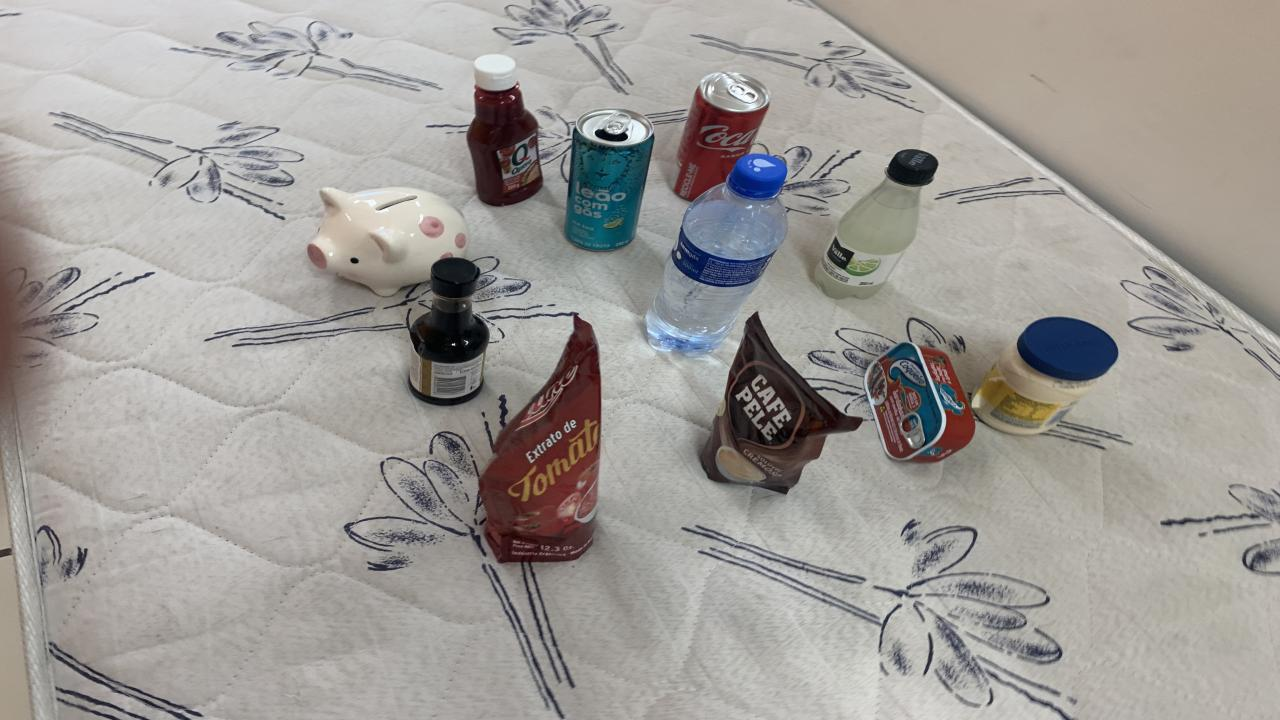Coffee-Pantry_Items: (700, 315, 860, 493)
Coke-Drinks: (672, 71, 770, 201)
English_Sauce-Pantry_Items: (410, 257, 490, 405)
Ketchup-Pantry_Items: (468, 54, 542, 206)
Mayonnaise-Pantry_Items: (970, 317, 1118, 435)
Pig_Safe-Miscellaneous: (308, 188, 468, 296)
Soda-Drinks: (815, 150, 938, 298)
Tea-Drinks: (565, 109, 655, 251)
Tomato_Sauce-Pantry_Items: (480, 317, 602, 562)
Tuna_Can-Pantry_Items: (865, 343, 975, 463)
Water_Bottle-Drinks: (648, 154, 788, 352)
